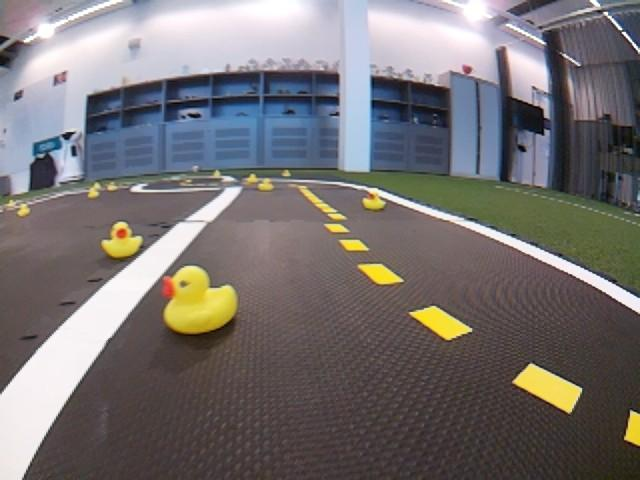Duckies: (162, 266, 238, 335), (100, 221, 142, 259), (361, 192, 385, 210), (258, 180, 273, 191), (16, 205, 29, 216), (88, 190, 100, 199), (248, 173, 258, 183), (108, 183, 118, 190), (92, 183, 102, 190), (212, 171, 220, 178), (7, 201, 16, 207), (283, 171, 291, 176)
